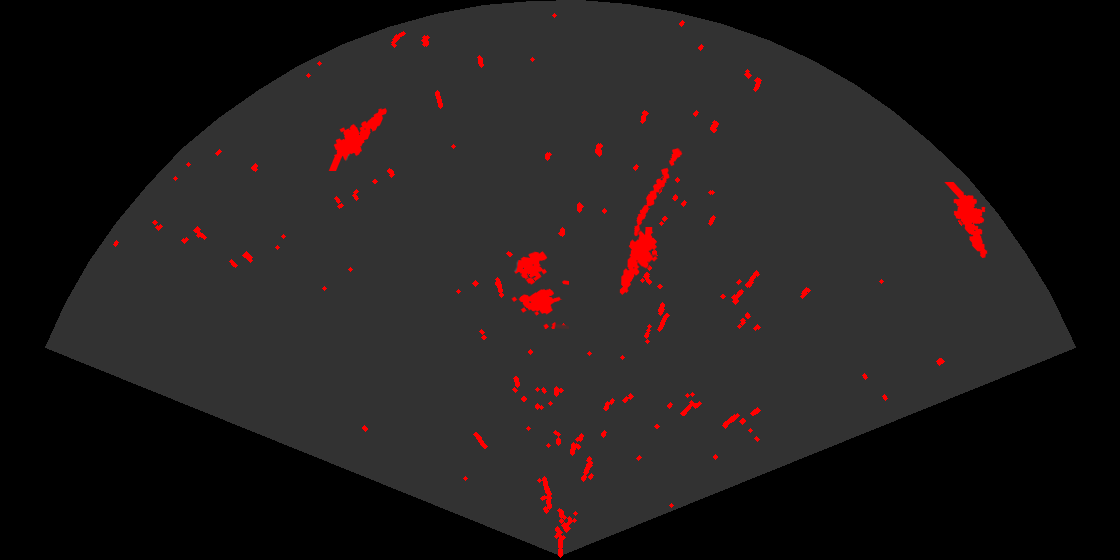cage: (510, 250, 569, 329)
chain: (632, 146, 684, 238)
frogman: (327, 107, 389, 171), (943, 182, 989, 260), (618, 227, 659, 296)
